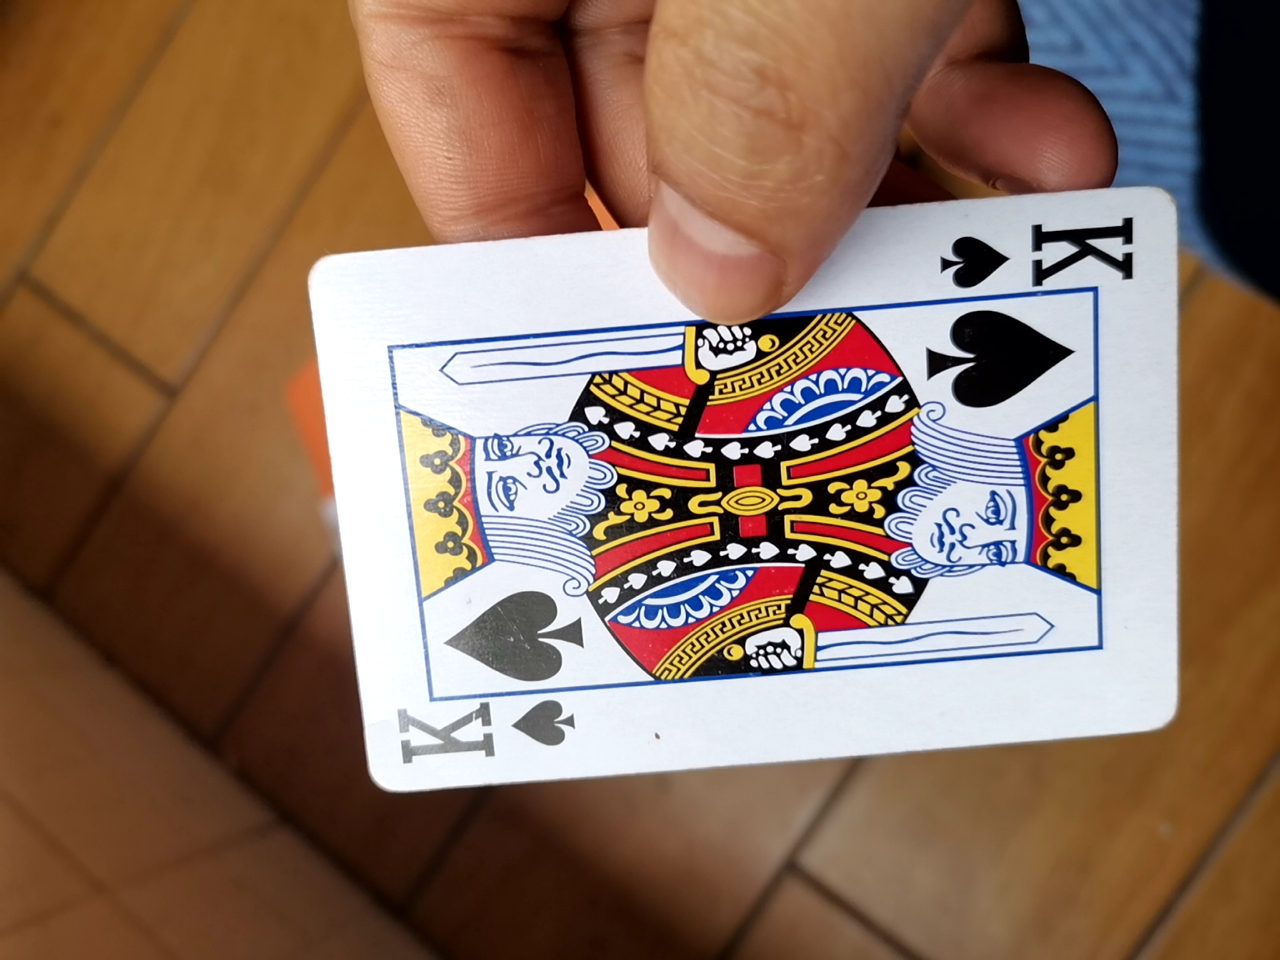ht k: (286, 183, 1167, 802)
